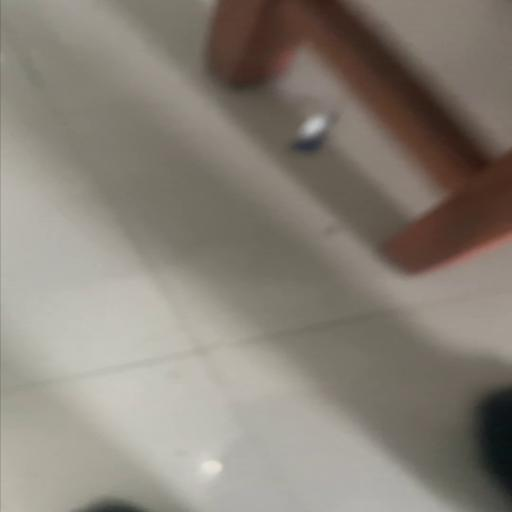street_golden_defect: (0, 62, 511, 512)
